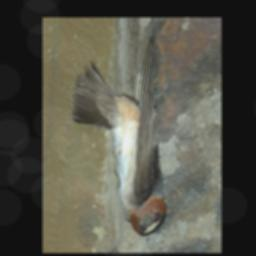Swallow: (72, 31, 168, 237)
